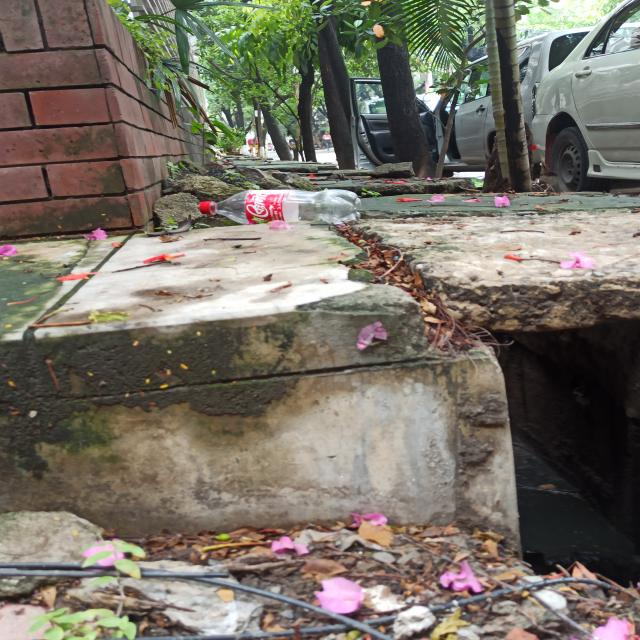artificial_container: (198, 188, 362, 225)
